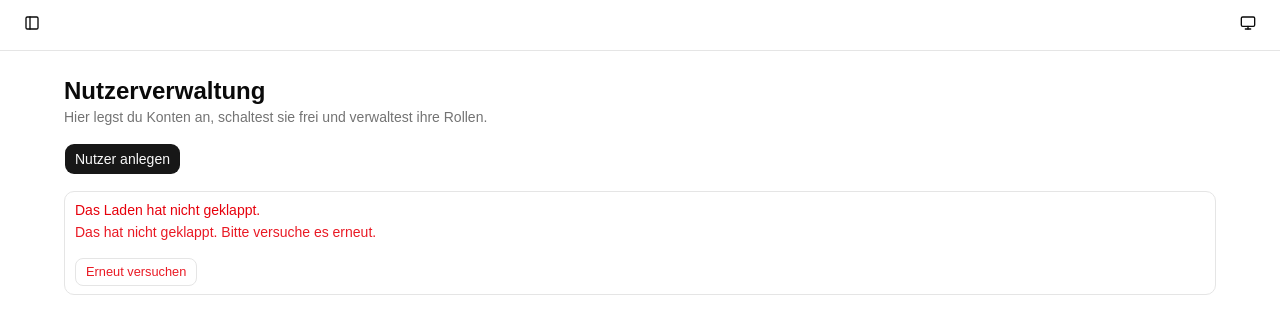
Test: AdminUsersPage: list › shows an error with a retry button and recovers
Check: the heading "Nutzerverwaltung" is shown, box 64,77 -> 265,104
Check: the message shows "Das Laden hat nicht geklappt.", box 75,202 -> 260,218
Click the button "Erneut versuchen".
click(136, 272)  # box 75,258 -> 197,286
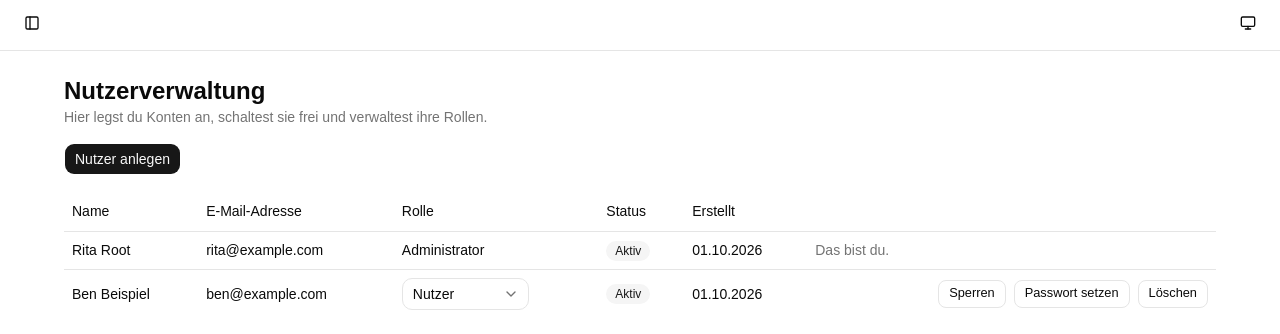
Check: the row "Ben Beispiel" is shown, box 64,269 -> 1216,318
